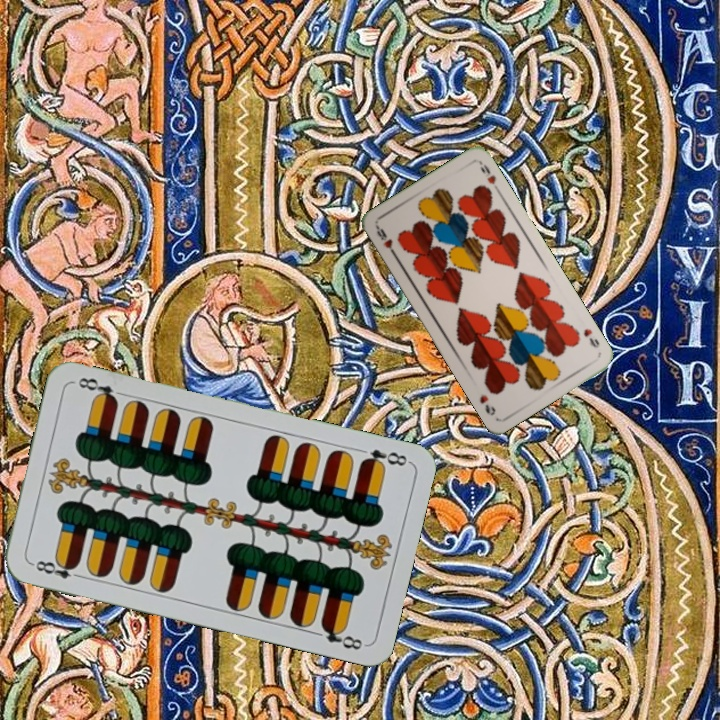E8: (27, 555, 85, 582), (357, 445, 411, 471)
H9: (372, 223, 399, 259), (579, 324, 602, 351)
